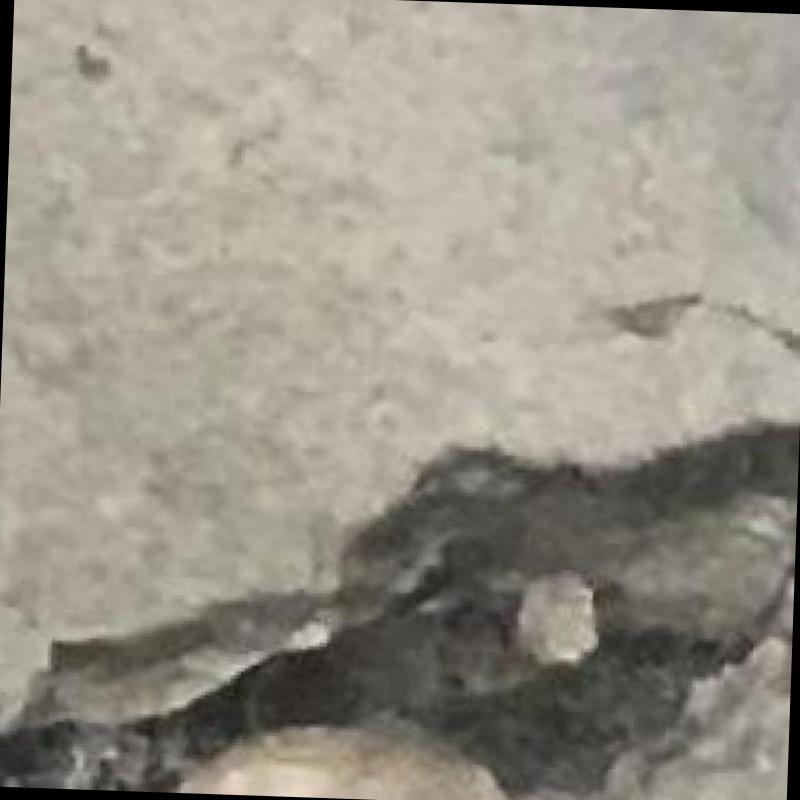pothole: (0, 423, 798, 800)
